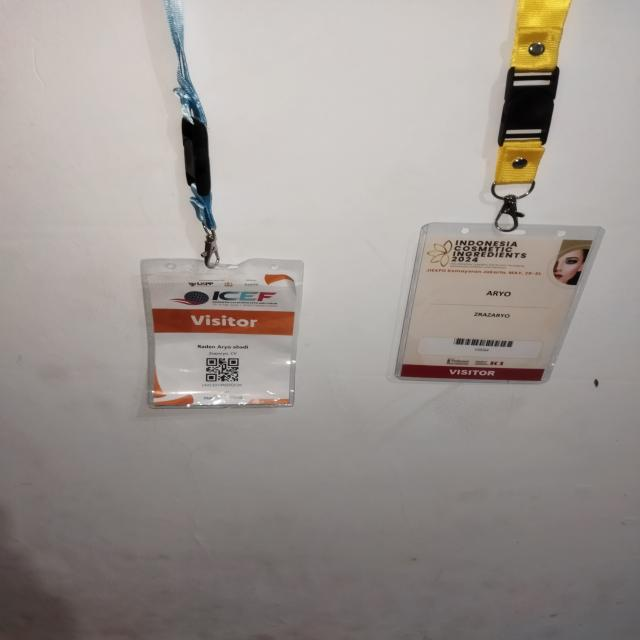ID_card: (389, 221, 605, 384), (139, 256, 305, 409)
